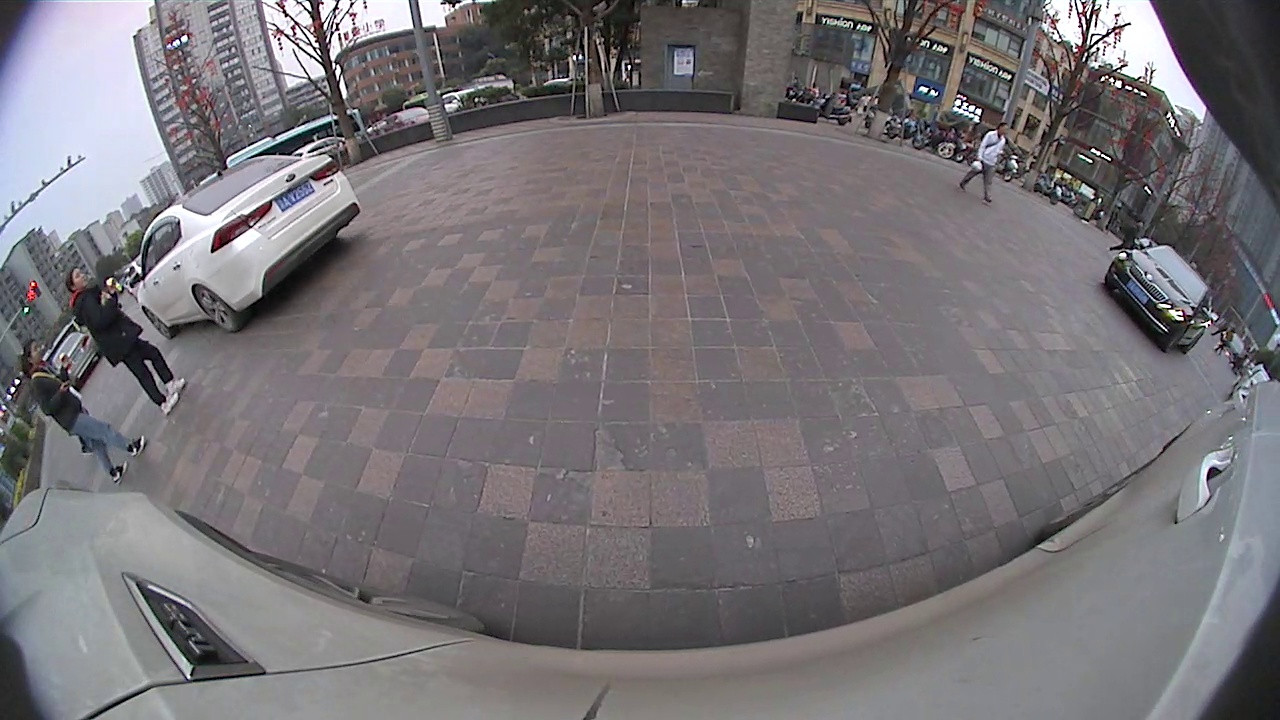bus: (196, 105, 361, 190)
car: (136, 152, 364, 339), (1103, 243, 1216, 356)
front: (141, 304, 175, 342)
person: (68, 265, 104, 413), (24, 339, 56, 482), (983, 121, 1010, 196)
rear: (190, 283, 243, 335)
